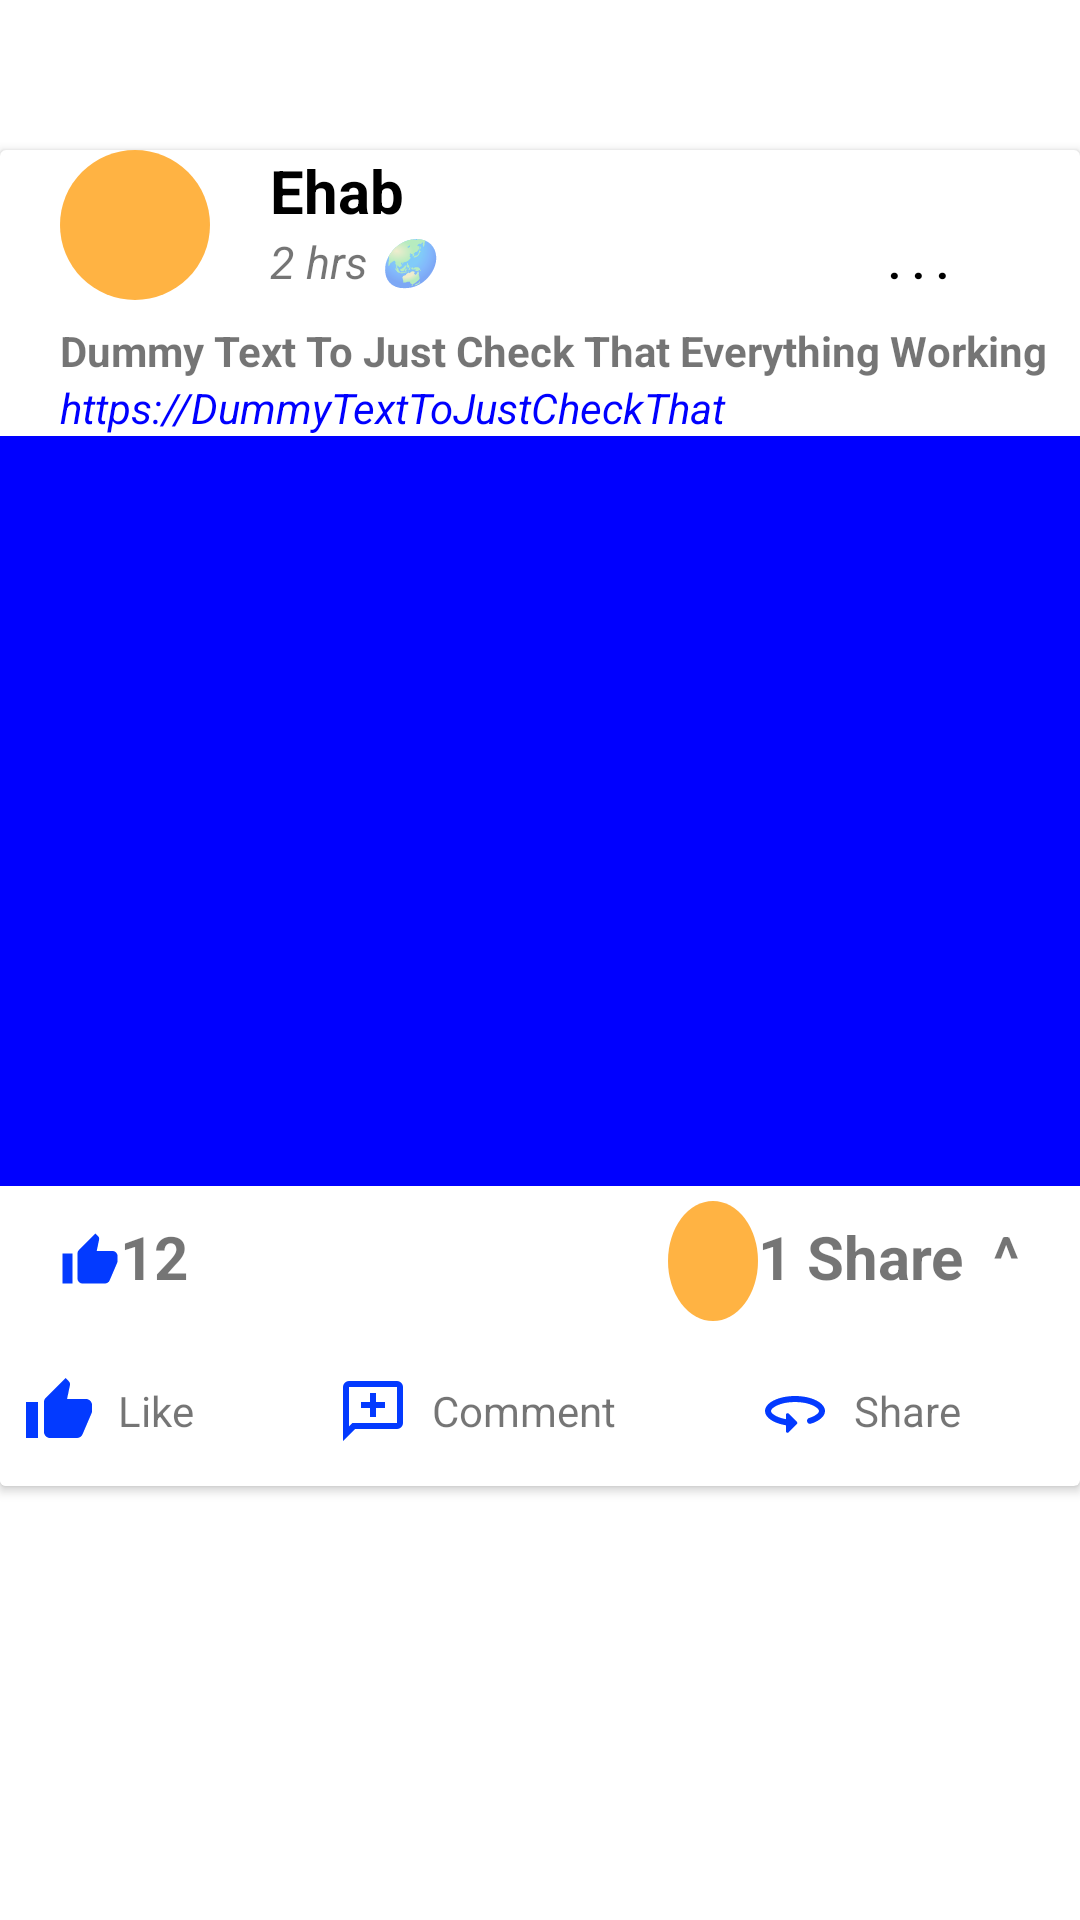

Where to tap for icons on this 1080px x 1920px app screen, as [x,y]:
thumb up: [90,1258], [59,1408]
